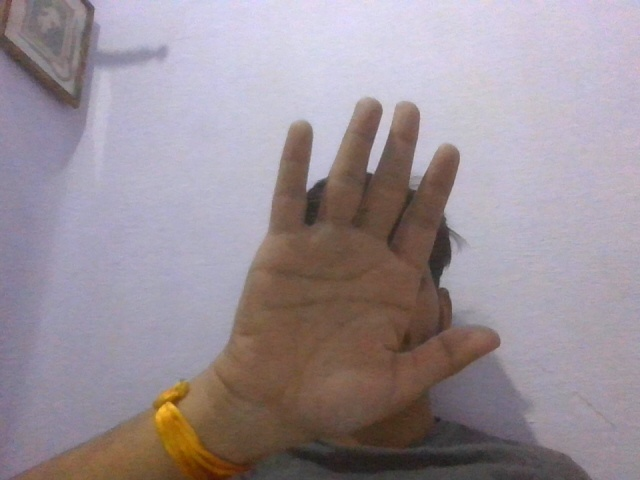hello: (204, 83, 509, 439)
